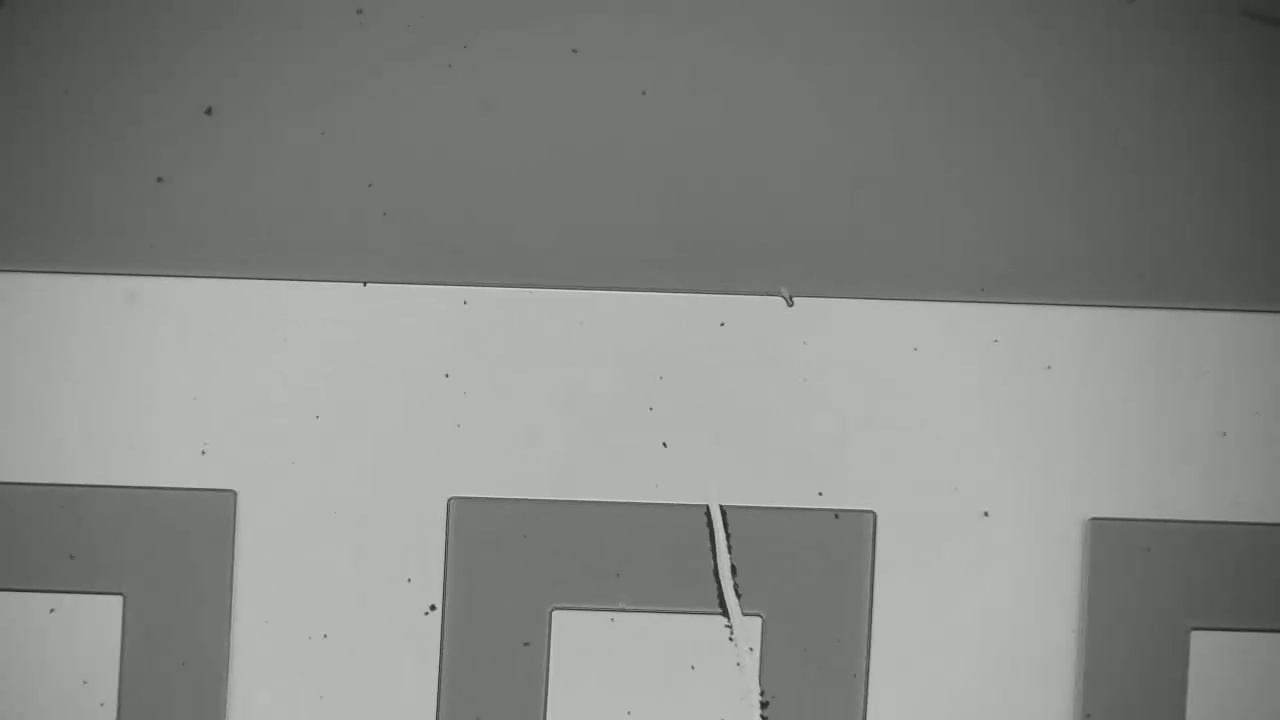Short_circuit: (684, 486, 774, 638)
